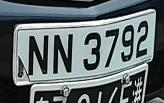2: (135, 16, 150, 60)
3: (80, 28, 103, 73)
7: (103, 23, 121, 69)
9: (121, 21, 136, 62)
N: (50, 29, 77, 80), (26, 28, 51, 82)
